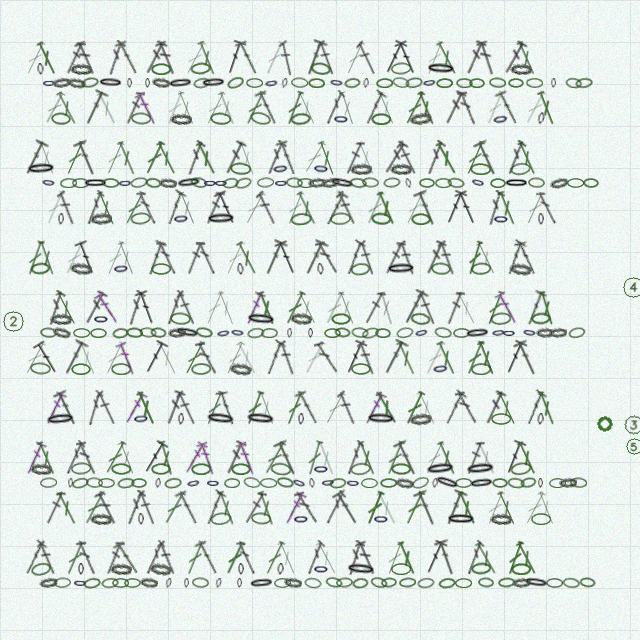chain: (205, 411, 236, 426), (245, 411, 276, 426), (425, 461, 456, 476), (465, 461, 496, 476), (434, 474, 460, 491), (45, 412, 76, 426), (246, 312, 276, 326), (346, 562, 376, 576), (249, 110, 272, 127), (426, 62, 456, 75), (26, 162, 56, 175), (206, 212, 236, 225), (386, 262, 416, 275), (366, 412, 396, 425), (329, 176, 355, 190), (446, 513, 476, 525), (30, 561, 52, 577), (409, 111, 432, 126), (176, 176, 202, 189), (174, 326, 200, 339), (523, 576, 549, 589), (510, 461, 532, 476), (210, 511, 232, 526), (509, 262, 532, 276), (229, 362, 252, 376), (409, 412, 432, 426), (149, 562, 172, 576), (310, 61, 331, 76), (290, 212, 312, 226), (270, 462, 292, 476), (168, 77, 193, 89), (465, 327, 490, 339), (469, 477, 494, 489), (249, 577, 274, 589), (290, 112, 311, 126), (510, 162, 531, 176), (350, 262, 371, 276), (410, 312, 431, 326), (350, 462, 371, 476), (90, 212, 112, 225), (70, 262, 92, 275), (290, 312, 312, 325), (490, 312, 512, 325), (226, 75, 245, 90), (411, 475, 430, 490), (549, 176, 569, 190), (98, 77, 123, 88), (201, 77, 226, 88), (190, 62, 211, 75), (210, 112, 231, 125), (230, 162, 251, 175), (130, 212, 151, 225), (330, 212, 351, 225), (30, 262, 51, 275), (170, 312, 191, 325), (30, 362, 51, 375), (234, 176, 253, 190), (361, 326, 380, 340), (71, 476, 90, 490), (70, 63, 92, 75), (510, 63, 532, 75), (170, 113, 192, 125), (350, 163, 372, 175), (390, 163, 412, 175), (50, 313, 72, 325), (30, 463, 52, 475), (90, 513, 112, 525), (490, 513, 512, 525), (110, 563, 132, 575), (391, 62, 411, 75), (51, 112, 71, 125), (131, 112, 151, 125), (371, 212, 391, 225), (431, 262, 451, 275), (471, 262, 491, 275), (531, 312, 551, 325), (71, 462, 91, 475), (251, 512, 271, 525), (471, 562, 491, 575), (470, 163, 491, 175), (83, 178, 108, 188), (504, 178, 529, 188), (52, 76, 71, 89), (321, 176, 340, 189), (52, 326, 71, 339), (39, 576, 58, 589), (151, 63, 171, 75), (371, 113, 391, 125), (411, 213, 431, 225), (151, 263, 171, 275), (331, 313, 351, 325), (71, 363, 91, 375), (111, 363, 131, 375), (191, 363, 211, 375), (351, 363, 371, 375), (471, 363, 491, 375), (491, 413, 511, 425), (111, 463, 131, 475), (151, 463, 171, 475), (191, 463, 211, 475), (231, 463, 251, 475), (391, 463, 411, 475), (531, 513, 551, 525), (391, 563, 411, 575), (511, 563, 531, 575), (492, 112, 509, 126), (81, 76, 99, 89), (392, 76, 410, 89), (405, 76, 423, 89), (130, 176, 148, 189), (190, 176, 208, 189), (195, 326, 213, 339), (396, 326, 414, 339), (434, 326, 452, 339), (568, 326, 586, 339), (243, 476, 261, 489), (276, 476, 294, 489), (325, 576, 343, 589), (370, 576, 388, 589), (67, 77, 86, 89), (395, 477, 414, 489), (291, 476, 307, 490), (272, 162, 289, 175), (432, 362, 449, 375), (520, 476, 537, 489), (193, 77, 211, 89), (575, 77, 593, 89), (349, 177, 367, 189), (447, 177, 465, 189), (247, 327, 265, 339), (117, 477, 135, 489), (164, 477, 182, 489), (329, 477, 347, 489), (507, 477, 525, 489), (83, 577, 101, 589), (101, 577, 119, 589), (304, 577, 322, 589), (417, 577, 435, 589), (438, 577, 456, 589), (562, 577, 580, 589), (512, 577, 531, 588), (313, 162, 329, 175), (470, 176, 486, 189), (173, 212, 189, 225), (113, 262, 129, 275), (133, 412, 149, 425), (344, 77, 361, 89), (565, 77, 582, 89), (145, 177, 162, 189), (222, 177, 239, 189), (112, 327, 129, 339), (352, 577, 369, 589), (152, 77, 170, 88), (308, 177, 326, 188), (383, 177, 401, 188), (139, 327, 157, 338), (168, 327, 186, 338), (351, 327, 369, 338), (536, 327, 554, 338), (549, 327, 567, 338), (559, 477, 577, 488), (140, 577, 158, 588), (284, 577, 302, 588), (414, 326, 429, 339), (333, 113, 349, 125), (493, 213, 509, 225), (93, 313, 109, 325), (313, 463, 329, 475), (293, 513, 309, 525), (373, 513, 389, 525), (313, 563, 329, 575), (291, 77, 308, 88), (489, 77, 506, 88), (257, 177, 274, 188), (286, 177, 303, 188), (362, 177, 379, 188), (528, 177, 545, 188), (40, 327, 57, 338), (126, 327, 143, 338), (150, 327, 167, 338), (334, 327, 351, 338), (40, 477, 57, 488), (86, 477, 103, 488), (570, 477, 587, 488), (54, 577, 71, 588), (192, 577, 209, 588), (336, 577, 353, 588), (399, 577, 416, 588), (498, 577, 515, 588), (579, 577, 596, 588), (264, 77, 279, 89), (159, 178, 177, 188), (216, 327, 231, 339), (186, 477, 201, 489), (381, 577, 397, 588), (478, 577, 494, 588), (246, 78, 263, 88), (308, 78, 325, 88), (376, 78, 393, 88), (436, 78, 453, 88), (456, 78, 473, 88), (526, 78, 543, 88), (60, 178, 77, 188), (72, 178, 89, 188), (102, 178, 119, 188), (297, 178, 314, 188), (435, 178, 452, 188), (567, 178, 584, 188), (73, 328, 90, 338), (90, 328, 107, 338), (261, 328, 278, 338), (324, 328, 341, 338), (453, 328, 470, 338), (98, 478, 115, 488), (260, 478, 277, 488), (361, 478, 378, 488), (380, 478, 397, 488), (455, 478, 472, 488), (549, 478, 566, 488), (112, 578, 129, 588), (124, 578, 141, 588), (274, 578, 291, 588), (455, 578, 472, 588), (546, 578, 563, 588), (329, 77, 344, 88), (422, 77, 437, 88), (41, 177, 56, 188), (230, 327, 245, 338), (491, 327, 506, 338), (522, 327, 537, 338), (469, 78, 485, 88), (508, 78, 524, 88), (419, 178, 435, 188), (490, 178, 506, 188), (583, 178, 599, 188), (375, 328, 391, 338), (131, 478, 147, 488), (224, 478, 240, 488), (492, 478, 508, 488), (321, 477, 335, 488), (42, 78, 56, 88), (118, 178, 132, 188), (203, 178, 217, 188), (214, 178, 228, 188), (274, 178, 288, 188), (502, 328, 516, 338), (206, 478, 220, 488), (346, 478, 360, 488), (73, 578, 87, 588), (537, 112, 545, 125), (37, 63, 44, 75), (237, 263, 244, 275), (317, 263, 324, 275), (537, 413, 544, 425), (277, 563, 284, 575), (58, 213, 64, 225), (538, 213, 544, 225), (178, 413, 184, 425), (298, 413, 304, 425), (138, 513, 144, 525), (78, 563, 84, 575), (238, 563, 244, 575), (281, 78, 288, 88), (405, 178, 412, 188), (165, 578, 172, 588), (215, 578, 222, 588), (363, 78, 369, 88), (155, 478, 161, 488), (309, 478, 315, 488), (432, 478, 438, 488), (127, 78, 132, 88), (145, 78, 150, 88), (551, 78, 556, 88), (287, 328, 292, 338), (308, 328, 313, 338), (68, 478, 73, 488), (538, 478, 543, 488), (184, 578, 189, 588), (237, 578, 242, 588)
double: (32, 339, 62, 376), (332, 489, 362, 526), (60, 339, 89, 377), (400, 289, 429, 326), (380, 339, 409, 376), (140, 439, 169, 476), (81, 89, 109, 127), (21, 139, 49, 177), (473, 139, 501, 177), (301, 239, 329, 277), (513, 339, 541, 377), (53, 389, 81, 427), (273, 439, 301, 477), (393, 439, 421, 477), (112, 540, 141, 576), (141, 339, 169, 376), (73, 139, 100, 177), (413, 189, 440, 227), (261, 239, 288, 277), (413, 489, 440, 527), (381, 140, 409, 176), (321, 190, 349, 226), (381, 39, 408, 76), (361, 89, 388, 126), (213, 189, 240, 226), (441, 389, 468, 426), (21, 539, 48, 576), (302, 39, 328, 77), (442, 489, 468, 527), (93, 290, 121, 325), (501, 40, 528, 76), (41, 90, 68, 126), (433, 140, 460, 176), (241, 190, 268, 226), (21, 340, 48, 376), (301, 340, 328, 376), (261, 440, 288, 476), (81, 490, 108, 526), (161, 490, 188, 526), (521, 490, 548, 526), (313, 540, 340, 576), (473, 540, 500, 576), (114, 39, 140, 76), (234, 39, 260, 76), (394, 39, 420, 76), (494, 89, 520, 126), (442, 189, 468, 226), (454, 189, 480, 226), (274, 239, 300, 276), (342, 339, 368, 376), (502, 339, 528, 376), (294, 389, 320, 426), (522, 389, 548, 426), (174, 489, 200, 526), (194, 539, 220, 576), (422, 539, 448, 576), (301, 140, 328, 175), (22, 40, 48, 76), (34, 40, 60, 76), (142, 40, 168, 76), (182, 40, 208, 76), (434, 40, 460, 76), (54, 90, 80, 126), (94, 90, 120, 126), (202, 90, 228, 126), (242, 90, 268, 126), (522, 90, 548, 126), (294, 190, 320, 226), (234, 240, 260, 276), (82, 290, 108, 326), (282, 290, 308, 326), (294, 290, 320, 326), (154, 340, 180, 376), (234, 340, 260, 376), (422, 340, 448, 376), (322, 390, 348, 426), (54, 490, 80, 526), (94, 490, 120, 526), (374, 490, 400, 526), (514, 540, 540, 576), (254, 89, 279, 126), (74, 239, 99, 276), (342, 239, 367, 276), (514, 239, 539, 276), (134, 289, 159, 326), (522, 289, 547, 326), (262, 339, 287, 376), (502, 439, 527, 476), (202, 489, 227, 526), (434, 539, 459, 576), (494, 290, 520, 325), (122, 390, 148, 425), (374, 390, 400, 425), (102, 440, 128, 475), (182, 440, 208, 475), (74, 40, 99, 76), (262, 40, 287, 76), (514, 40, 539, 76), (134, 90, 159, 126), (402, 90, 427, 126), (442, 90, 467, 126), (102, 140, 127, 176), (142, 140, 167, 176), (154, 140, 179, 176), (194, 140, 219, 176), (222, 140, 247, 176), (122, 190, 147, 226), (62, 240, 87, 276), (474, 240, 499, 276), (54, 290, 79, 326), (322, 290, 347, 326), (454, 290, 479, 326), (102, 340, 127, 376), (182, 340, 207, 376), (394, 340, 419, 376), (434, 340, 459, 376), (134, 390, 159, 426), (362, 390, 387, 426), (402, 390, 427, 426), (414, 390, 439, 426), (482, 390, 507, 426), (422, 440, 447, 476), (474, 440, 499, 476), (282, 490, 307, 526), (402, 490, 427, 526), (262, 540, 287, 576), (223, 39, 247, 76), (163, 189, 187, 226), (143, 239, 167, 276), (503, 239, 527, 276), (314, 340, 339, 375), (294, 490, 319, 525), (155, 40, 179, 76), (195, 40, 219, 76), (343, 40, 367, 76), (463, 40, 487, 76), (163, 90, 187, 126), (215, 90, 239, 126), (295, 90, 319, 126), (483, 90, 507, 126), (63, 140, 87, 176), (115, 140, 139, 176), (463, 140, 487, 176), (515, 140, 539, 176), (43, 190, 67, 226), (175, 190, 199, 226), (283, 190, 307, 226), (363, 190, 387, 226), (403, 190, 427, 226), (495, 190, 519, 226), (523, 190, 547, 226), (103, 240, 127, 276), (223, 240, 247, 276), (423, 240, 447, 276), (75, 340, 99, 376), (223, 340, 247, 376), (463, 340, 487, 376), (43, 390, 67, 426), (495, 390, 519, 426), (23, 440, 47, 476), (223, 440, 247, 476), (355, 440, 379, 476), (383, 440, 407, 476), (435, 440, 459, 476), (515, 440, 539, 476), (363, 490, 387, 526), (455, 490, 479, 526), (483, 490, 507, 526), (495, 490, 519, 526), (63, 540, 87, 576), (183, 540, 207, 576), (223, 540, 247, 576), (275, 540, 299, 576), (355, 540, 379, 576), (395, 540, 419, 576), (275, 139, 298, 176), (215, 389, 238, 426), (263, 140, 287, 175), (395, 140, 419, 175), (503, 140, 527, 175), (315, 240, 339, 275), (243, 490, 267, 525), (323, 490, 347, 525), (423, 40, 446, 76), (175, 90, 198, 126), (283, 90, 306, 126), (375, 90, 398, 126), (415, 90, 438, 126), (535, 90, 558, 126), (35, 140, 58, 176), (183, 140, 206, 176), (355, 140, 378, 176), (95, 190, 118, 226), (375, 190, 398, 226), (115, 240, 138, 276), (203, 290, 226, 326), (215, 290, 238, 326), (243, 290, 266, 326), (255, 290, 278, 326), (335, 290, 358, 326), (115, 340, 138, 376), (195, 340, 218, 376), (475, 340, 498, 376), (163, 390, 186, 426), (203, 390, 226, 426), (243, 390, 266, 426), (255, 390, 278, 426), (283, 390, 306, 426), (35, 440, 58, 476), (115, 440, 138, 476), (235, 440, 258, 476), (315, 440, 338, 476), (215, 490, 238, 526), (255, 490, 278, 526), (535, 490, 558, 526), (383, 540, 406, 576), (355, 40, 378, 75), (323, 90, 346, 125), (423, 140, 446, 175), (255, 190, 278, 225), (335, 190, 358, 225), (383, 240, 406, 275), (175, 290, 198, 325), (363, 290, 386, 325), (95, 390, 118, 425), (175, 390, 198, 425), (455, 390, 478, 425), (63, 440, 86, 475), (123, 490, 146, 525), (143, 540, 166, 575), (104, 40, 126, 76), (476, 40, 498, 76), (336, 90, 358, 126), (236, 140, 258, 176), (316, 140, 338, 176), (24, 240, 46, 276), (36, 240, 58, 276), (44, 290, 66, 326), (124, 290, 146, 326), (484, 290, 506, 326), (536, 390, 558, 426), (196, 440, 218, 476), (504, 540, 526, 576), (64, 40, 86, 75), (136, 190, 158, 225), (536, 190, 558, 225), (156, 240, 178, 275), (416, 290, 438, 325), (336, 390, 358, 425), (44, 490, 66, 525), (136, 490, 158, 525), (36, 540, 58, 575), (156, 540, 178, 575), (304, 540, 326, 575), (484, 190, 505, 226), (376, 290, 397, 326), (76, 440, 97, 476), (156, 440, 177, 476), (304, 440, 325, 476), (76, 540, 97, 576), (344, 540, 365, 576), (316, 40, 337, 75), (124, 90, 145, 125), (344, 140, 365, 175), (56, 190, 77, 225), (84, 190, 105, 225), (204, 190, 225, 225), (196, 240, 217, 275), (164, 290, 185, 325), (356, 340, 377, 375), (344, 440, 365, 475), (104, 540, 125, 575), (236, 540, 257, 575), (464, 540, 485, 575), (457, 90, 477, 126), (465, 240, 485, 276), (537, 290, 557, 326), (185, 240, 205, 275), (357, 240, 377, 275), (397, 240, 417, 275), (437, 240, 457, 275), (445, 290, 465, 325), (277, 340, 297, 375), (465, 440, 485, 475), (85, 390, 104, 426), (278, 40, 295, 76)
noise: (1, 309, 25, 333), (621, 275, 640, 299), (594, 413, 615, 434), (622, 413, 640, 436), (624, 436, 640, 456)
